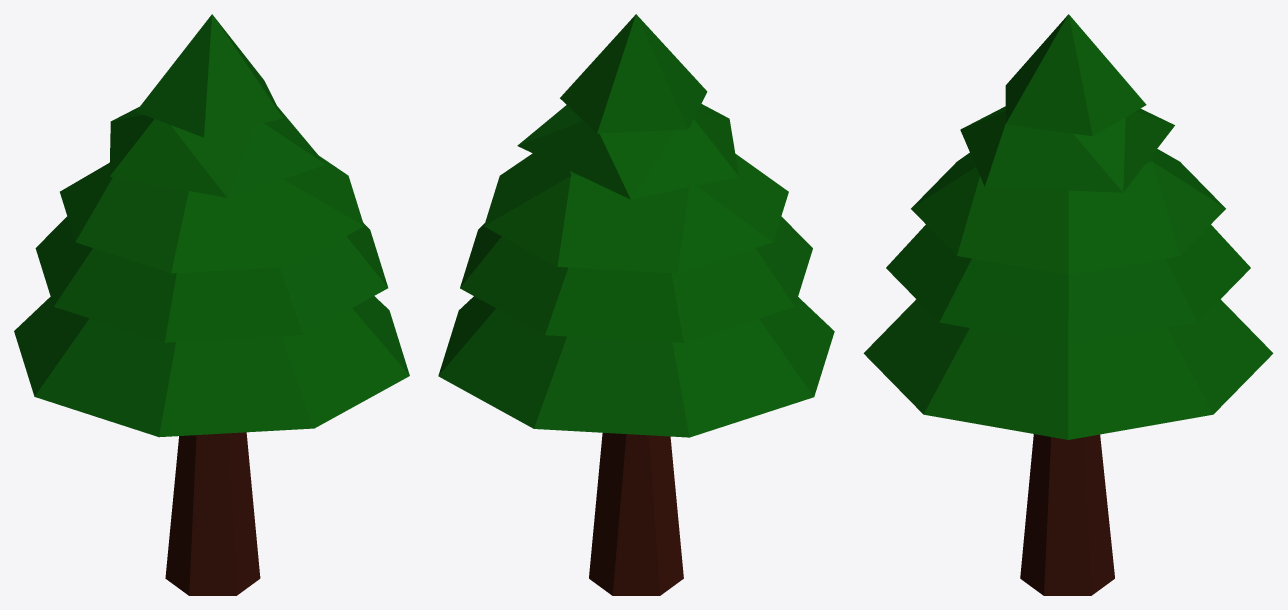
The model's file is tree3.obj.
3 renders of one model, left to right at view 1: azimuth 30°, elevation 25°; view 2: azimuth 150°, elevation 25°; view 3: azimuth 270°, elevation 25°, orthographic.
Parts seen in each view (by area): view 1: tree3; view 2: tree3; view 3: tree3.
Boxes of the visible parts, bbox=[...] form: tree3: bbox=[14, 14, 409, 595]; tree3: bbox=[438, 14, 834, 595]; tree3: bbox=[863, 14, 1273, 595].
Bounding box in the file's own units: 8.63 × 13.11 × 8.63.
